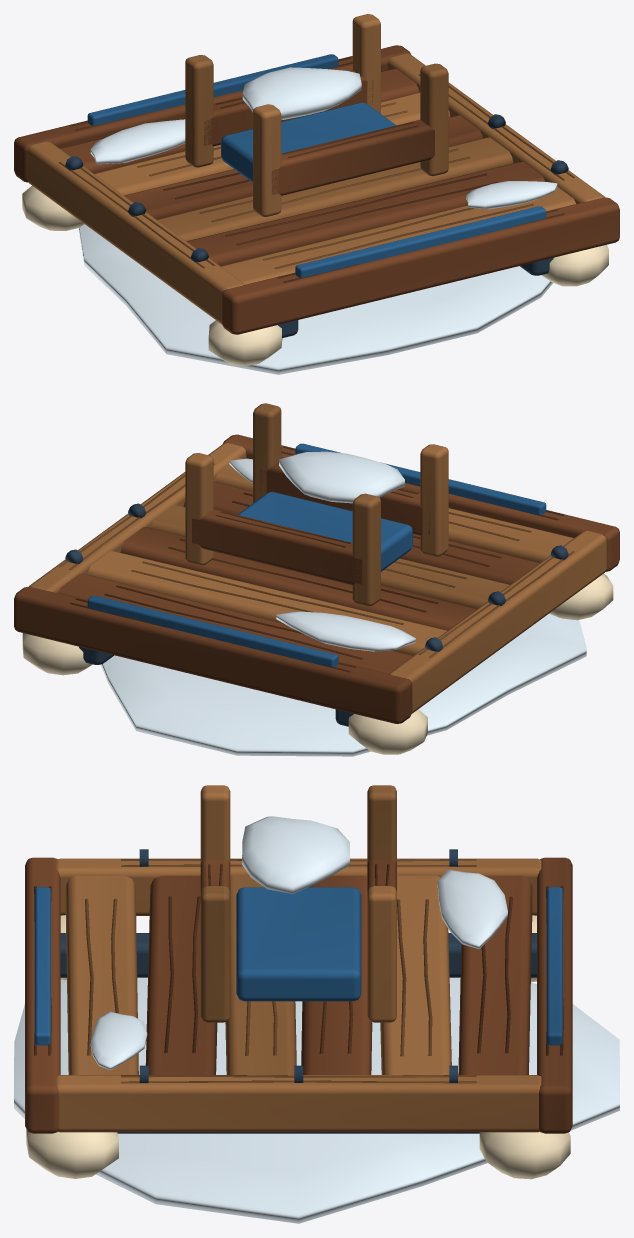
File: pad_stock.glb
The picture shows the model from 3 angles, top to bottom: view 1: azimuth 30°, elevation 25°; view 2: azimuth 150°, elevation 25°; view 3: azimuth 270°, elevation 25°; orthographic projection. The views are drawn at different scales.
Visible parts, largest first — view 1: pad_stock; view 2: pad_stock; view 3: pad_stock.
Boxes of the visible parts, x1,y1,x2,y2 form: pad_stock: (14, 14, 619, 374); pad_stock: (14, 403, 619, 756); pad_stock: (14, 785, 619, 1223).
Size of the model in its own units: 2.14 by 0.97 by 2.04.
